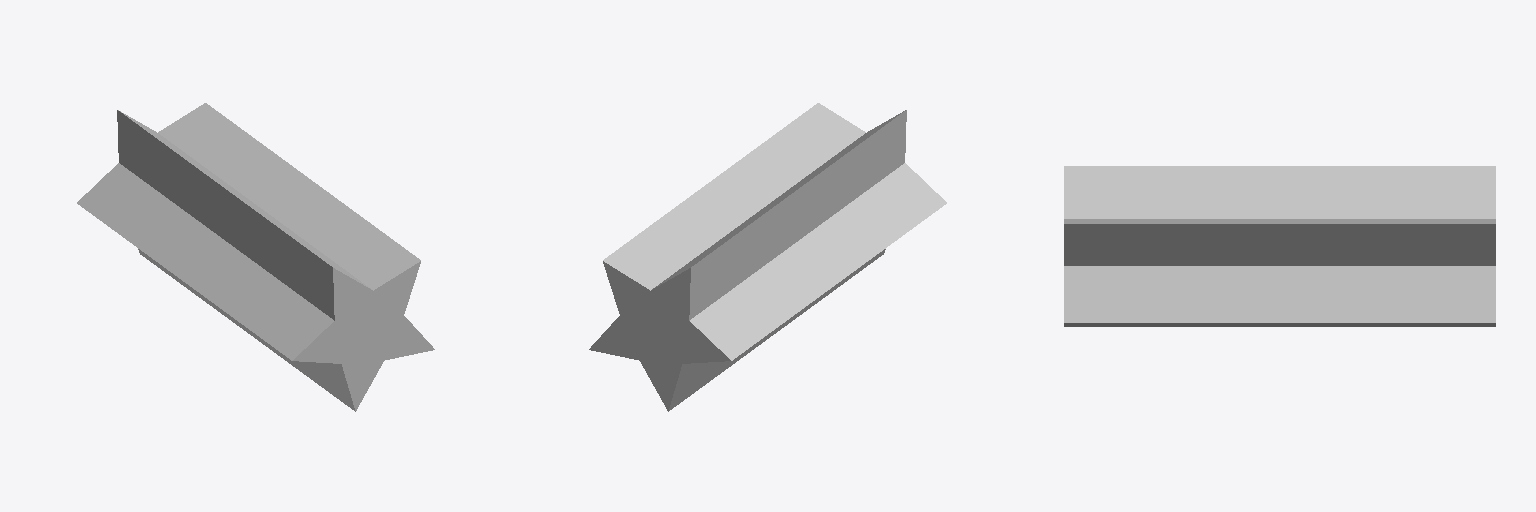
File: Star_cube_cap.obj
3 renders of one model, left to right at view 1: azimuth 30°, elevation 25°; view 2: azimuth 150°, elevation 25°; view 3: azimuth 270°, elevation 25°, orthographic.
Visible parts, largest first — view 1: Circle; view 2: Circle; view 3: Circle.
Boxes of the visible parts, x1=… form: Circle: x1=77, y1=103, x2=434, y2=411; Circle: x1=589, y1=103, x2=946, y2=411; Circle: x1=1064, y1=166, x2=1495, y2=326.
Size of the model in its own units: 0.0383 by 0.0383 by 0.1.